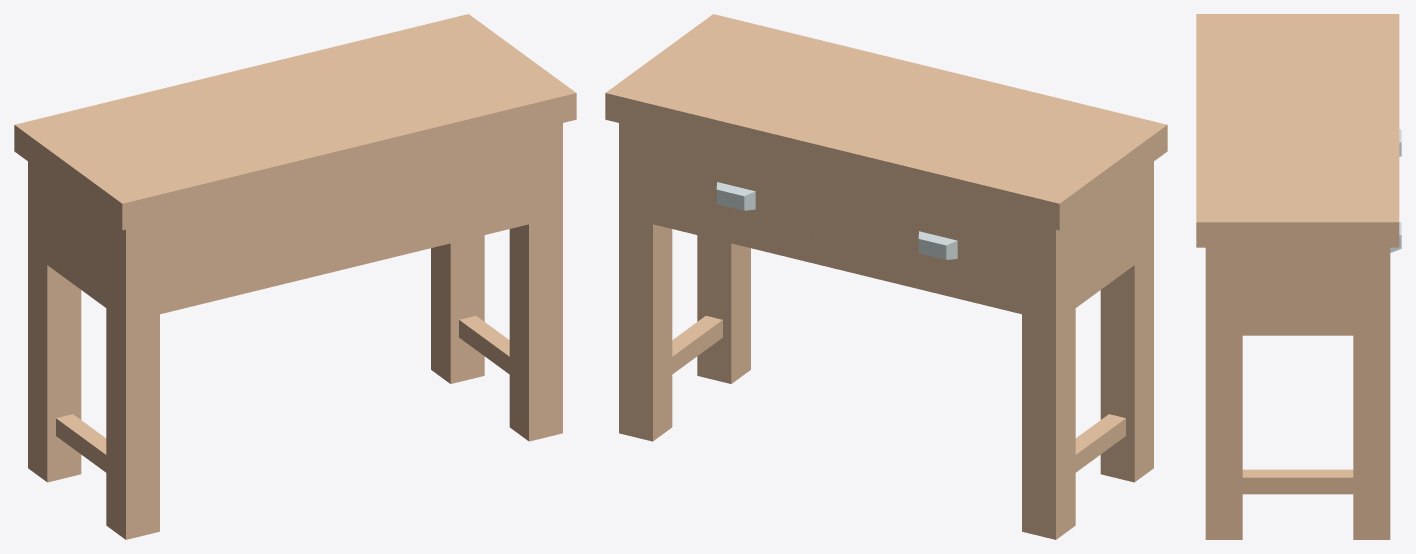
The model's file is sideTableDrawers.gltf.
3 views of the same model, side by side, from view 1: azimuth 30°, elevation 25°; view 2: azimuth 150°, elevation 25°; view 3: azimuth 270°, elevation 25° (orthographic). The views are drawn at different scales.
Visible parts, largest first — view 1: sideTableDrawers; view 2: sideTableDrawers, drawerRight, drawerLeft; view 3: sideTableDrawers.
Boxes of the visible parts, x1,y1,x2,y2 form: sideTableDrawers: (14,14,576,539); sideTableDrawers: (605,14,1167,539); drawerRight: (854,202,1021,287); drawerLeft: (653,153,819,238); sideTableDrawers: (1196,14,1399,539).
Bounding box in the file's own units: 5.34 × 3.84 × 2.22.
